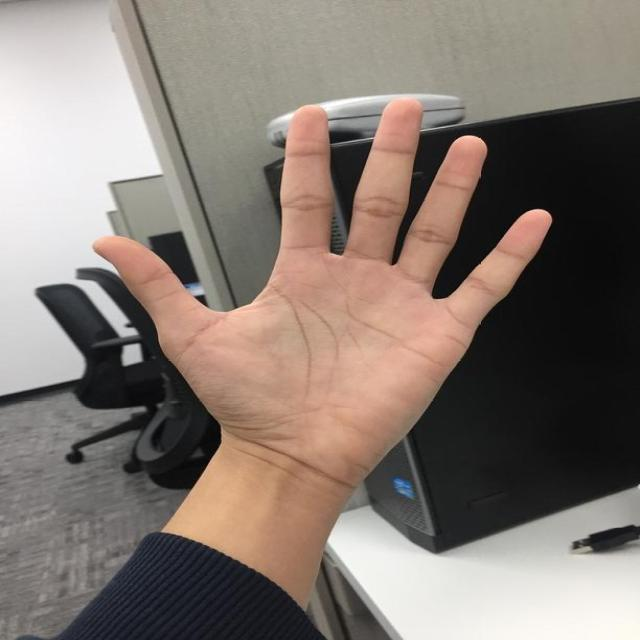no-gloves: (92, 96, 558, 471)
